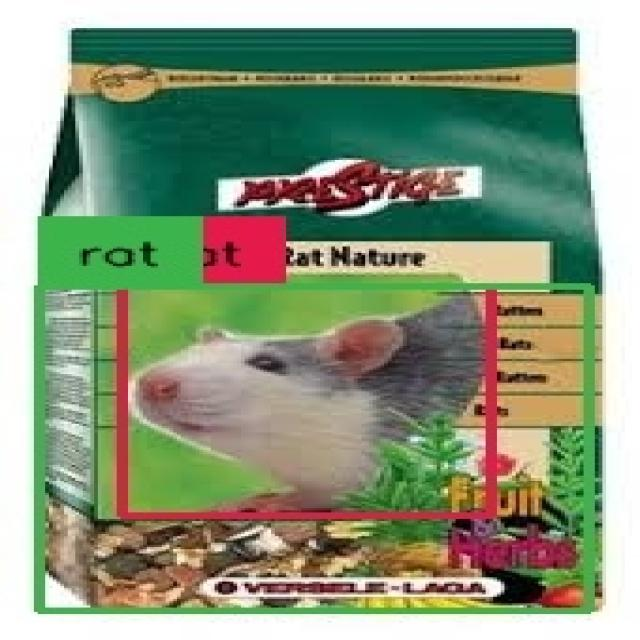rat: (40, 285, 589, 612), (124, 286, 493, 516)
